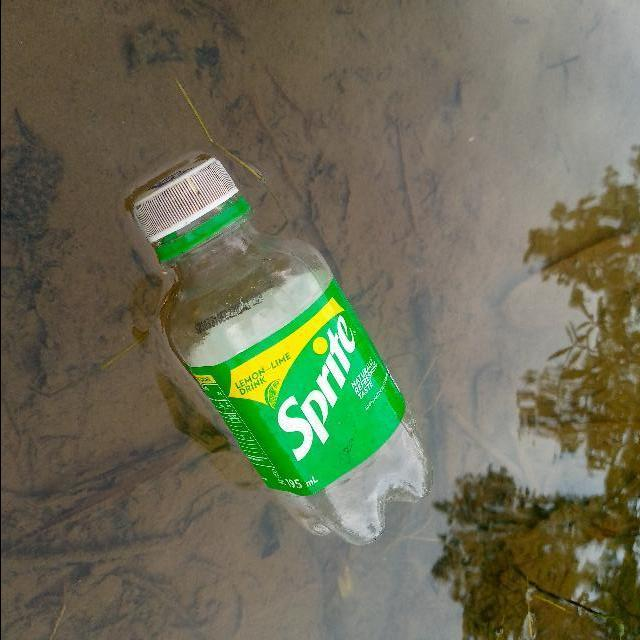Bottle: (120, 149, 442, 557)
